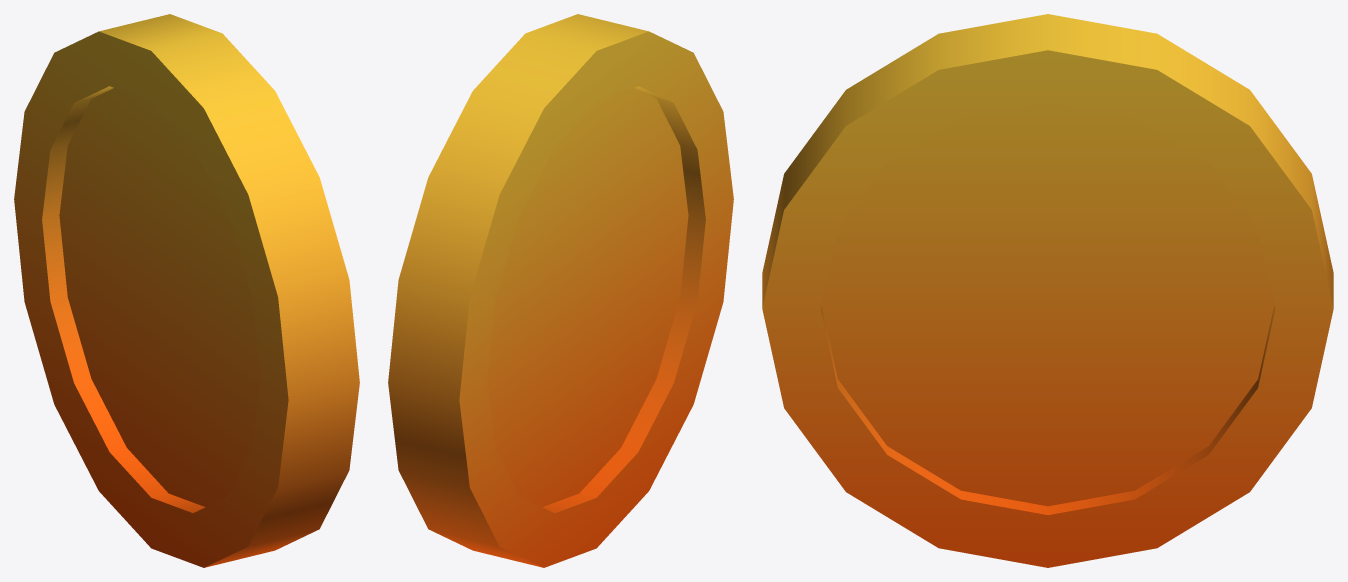
Rendered from AssetEndlessRunner.fbx.
3 renders of one model, left to right at view 1: azimuth 30°, elevation 25°; view 2: azimuth 150°, elevation 25°; view 3: azimuth 270°, elevation 25°, orthographic. The views are drawn at different scales.
Parts seen in each view (by area): view 1: Circle; view 2: Circle; view 3: Circle.
Part boxes in pixels (box(x1,y1,x2,y2)): Circle: box(14, 14, 359, 567); Circle: box(388, 14, 733, 567); Circle: box(762, 14, 1333, 567).
Bounding box in the file's own units: 30 × 200 × 200.
1 material, 1 textured.
